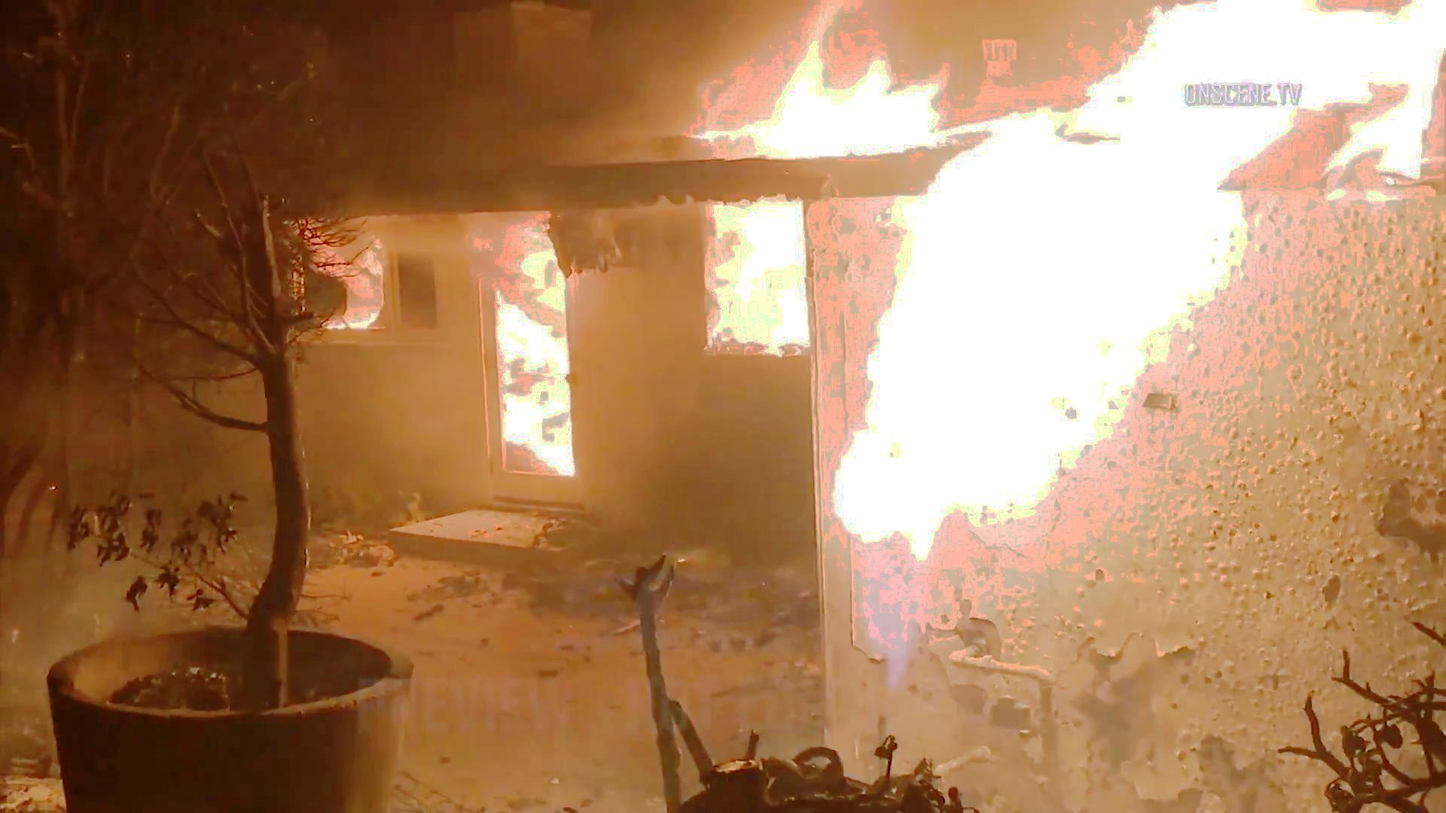fire: (691, 0, 935, 332), (486, 206, 579, 452)
